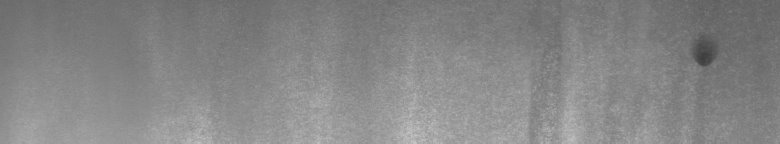fi: (686, 43, 720, 72)
